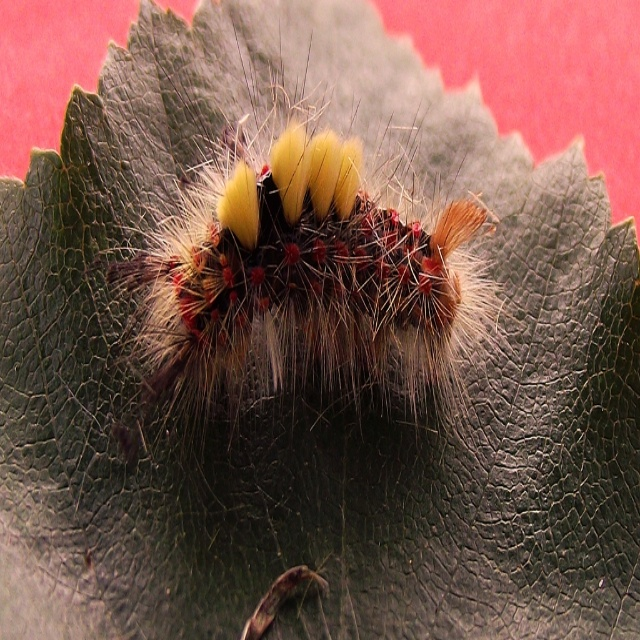Caterpillar: (88, 18, 532, 475)
